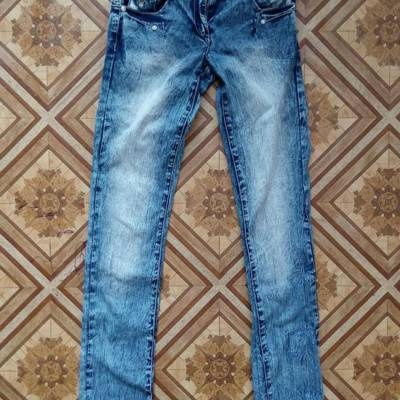Pants: (63, 5, 338, 397)
